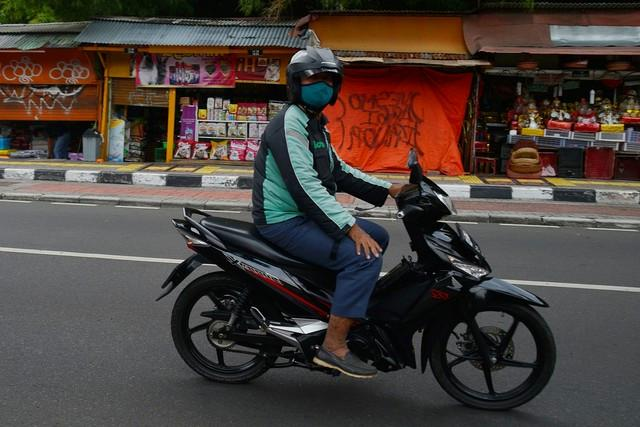helm: (284, 47, 342, 110)
motor: (159, 145, 564, 423)
